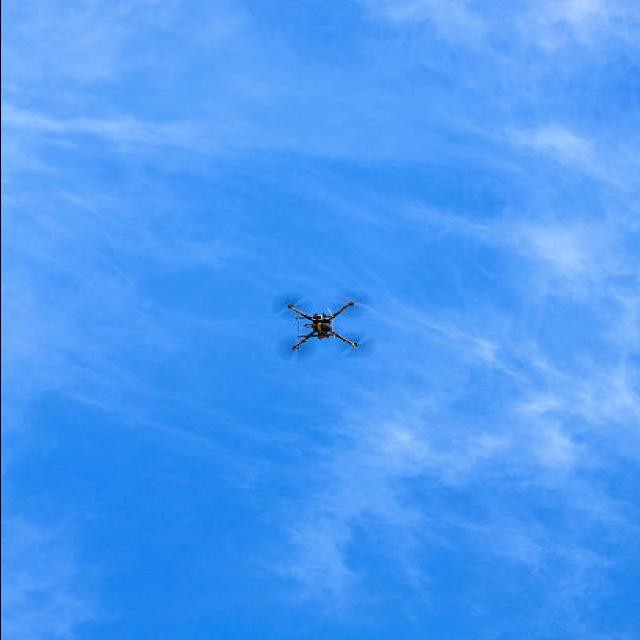drone: (286, 300, 360, 350)
